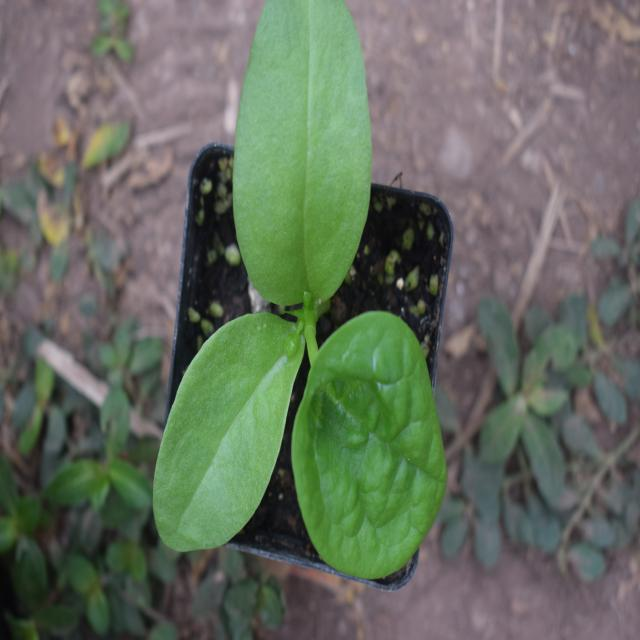Ceylon spinach: (170, 11, 477, 587)
